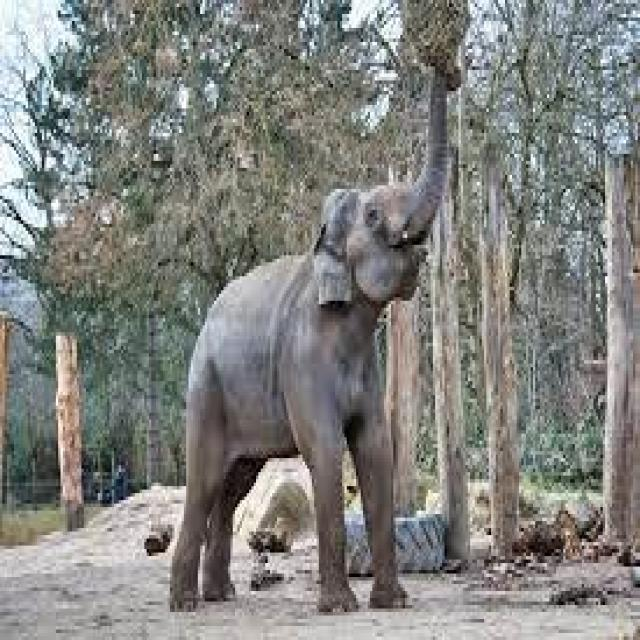Elephant: (182, 182, 414, 615)
